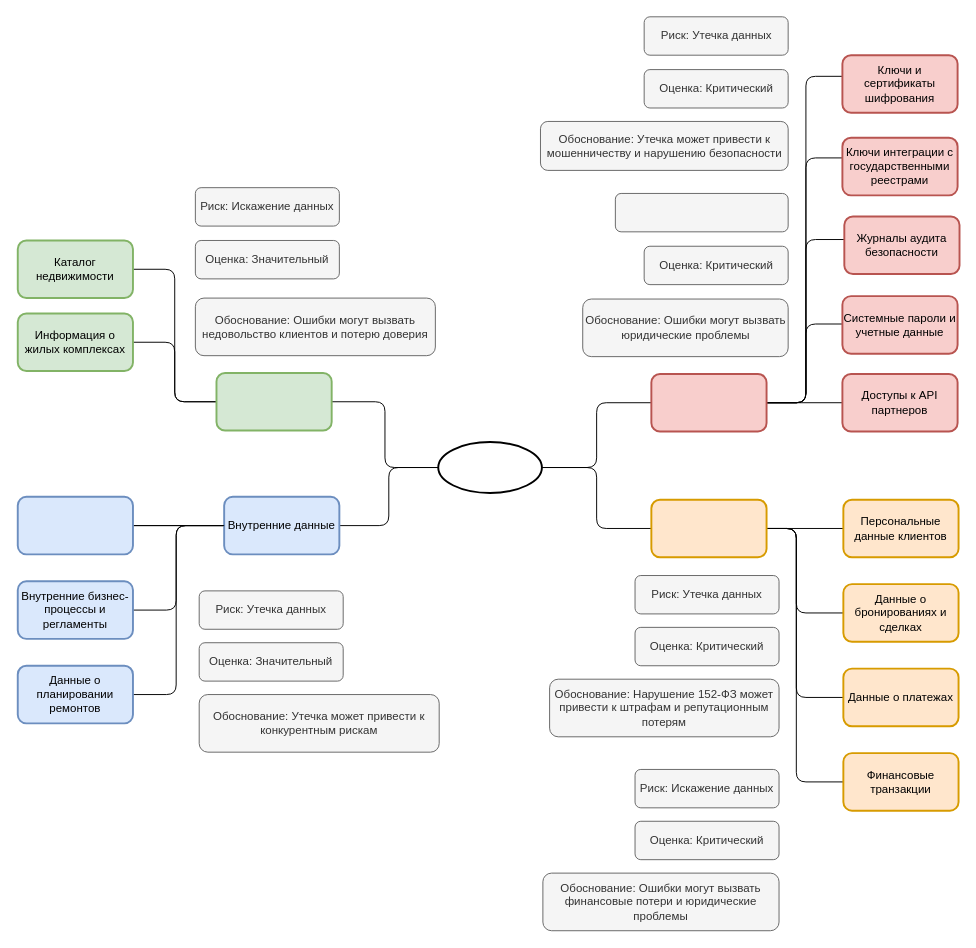
Image size: 976x948. Some labels were removed from this diagram. Here are the shapes that lost their labels. From the top down, the centre of each, then its label:
[701,212]: Риск: Некачественные данные
[273,401]: Публичные данные
[708,402]: Секретные данные
[489,467]: Безопасность данных
[74,525]: Внутренние отчеты
[708,528]: Конфиденциальные данные
